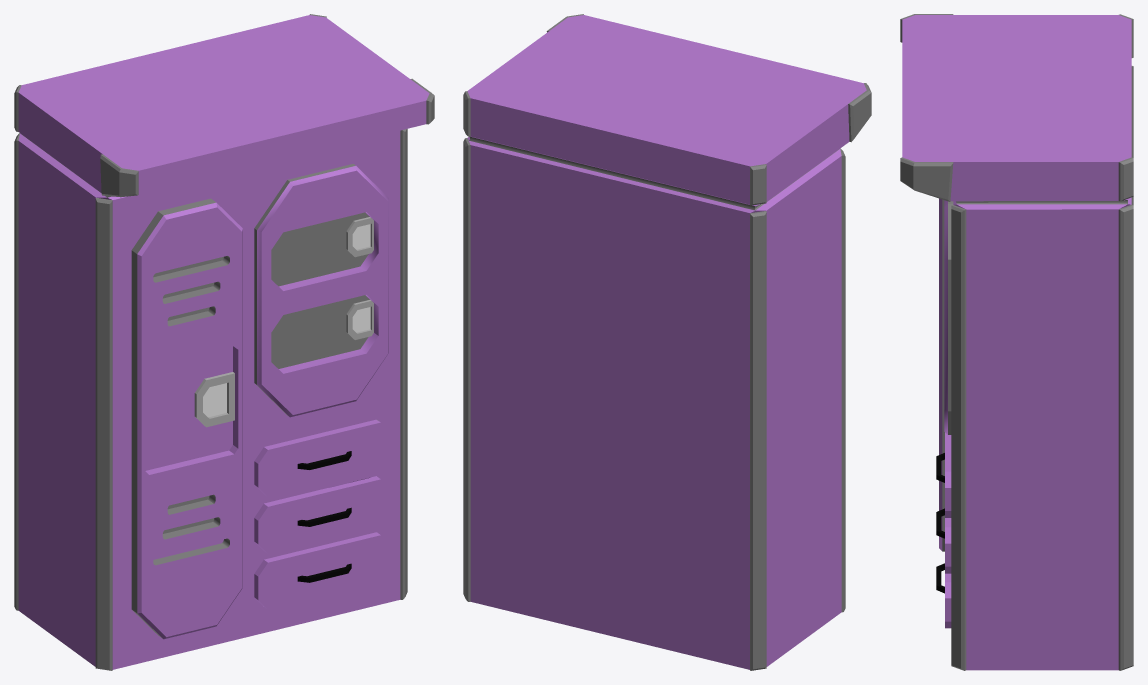
File: kitchenFridgeLarge.glb
The picture shows the model from 3 angles, left to right: view 1: azimuth 30°, elevation 25°; view 2: azimuth 150°, elevation 25°; view 3: azimuth 270°, elevation 25°; orthographic projection. The views are drawn at different scales.
Parts seen in each view (by area): view 1: kitchenFridgeLarge; view 2: kitchenFridgeLarge; view 3: kitchenFridgeLarge.
Boxes of the visible parts, box(x1,y1,x2,y2) form: kitchenFridgeLarge: box(14, 14, 434, 670); kitchenFridgeLarge: box(463, 14, 871, 670); kitchenFridgeLarge: box(900, 14, 1133, 670).
Bounding box in the file's own units: 1.05 × 1.64 × 0.6828.
